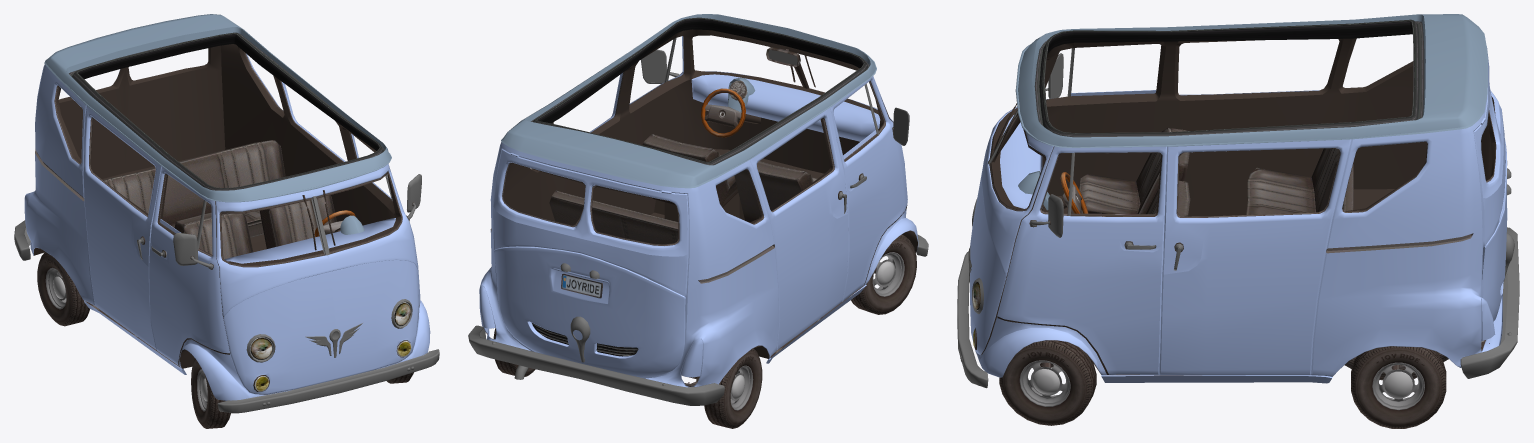
The model's file is camper2.glb.
3 views of the same model, side by side, from view 1: azimuth 30°, elevation 25°; view 2: azimuth 150°, elevation 25°; view 3: azimuth 270°, elevation 25° (orthographic). The views are drawn at different scales.
Parts seen in each view (by area): view 1: node_id405, node_id407, node_id327, node_id409, node_id329, node_id322, node_id417, node_id372, node_id415, node_id394, node_id427, node_id374 (+6 smaller); view 2: node_id405, node_id407, node_id409, node_id324, node_id329, node_id327, node_id417, node_id358, node_id372, node_id355, node_id399, node_id369 (+10 smaller); view 3: node_id405, node_id407, node_id409, node_id327, node_id329, node_id430, node_id365, node_id417, node_id324, node_id434, node_id362, node_id322 (+5 smaller).
Part boxes in pixels (box(x1,y1,x2,y2)): node_id405: box(24, 14, 430, 400); node_id407: box(33, 44, 419, 394); node_id327: box(103, 140, 285, 237); node_id409: box(69, 32, 384, 190); node_id329: box(174, 195, 336, 259); node_id322: box(217, 349, 439, 413); node_id417: box(35, 52, 402, 267); node_id372: box(37, 255, 71, 322); node_id415: box(197, 174, 412, 362); node_id394: box(173, 233, 212, 269); node_id427: box(250, 302, 410, 359); node_id374: box(39, 252, 89, 326); node_id405: box(479, 14, 918, 387); node_id407: box(503, 29, 917, 358); node_id409: box(531, 17, 869, 165); node_id324: box(468, 325, 724, 405); node_id329: box(642, 134, 817, 222); node_id327: box(549, 190, 678, 244); node_id417: box(490, 36, 885, 283); node_id358: box(864, 238, 916, 311); node_id372: box(725, 351, 762, 425); node_id355: box(872, 252, 904, 296); node_id399: box(641, 49, 679, 83); node_id369: box(722, 365, 753, 410); node_id405: box(970, 14, 1507, 383); node_id407: box(975, 38, 1495, 374); node_id409: box(1034, 19, 1424, 137); node_id327: box(1246, 148, 1353, 214); node_id329: box(1079, 127, 1190, 216); node_id430: box(1356, 346, 1441, 426); node_id365: box(1003, 344, 1087, 423); node_id417: box(989, 61, 1496, 253); node_id324: box(1460, 227, 1519, 378); node_id434: box(1372, 362, 1424, 410); node_id362: box(1019, 360, 1070, 406); node_id322: box(957, 251, 988, 388).
Size of the model in its own units: 0.512 by 0.4885 by 0.8131.
56 materials, 56 textured.
